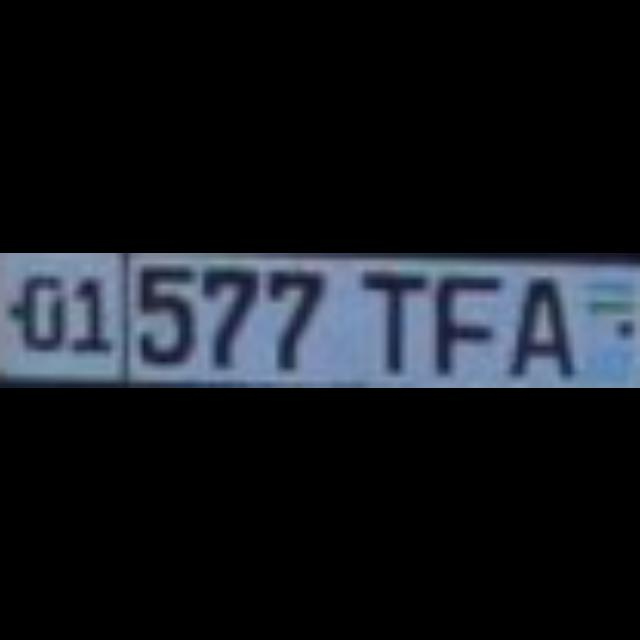0: (12, 264, 56, 344)
1: (62, 264, 98, 344)
5: (123, 252, 185, 356)
7: (258, 258, 314, 362), (190, 258, 246, 356)
A: (504, 264, 566, 370)
F: (425, 264, 499, 370)
T: (351, 258, 419, 362)
